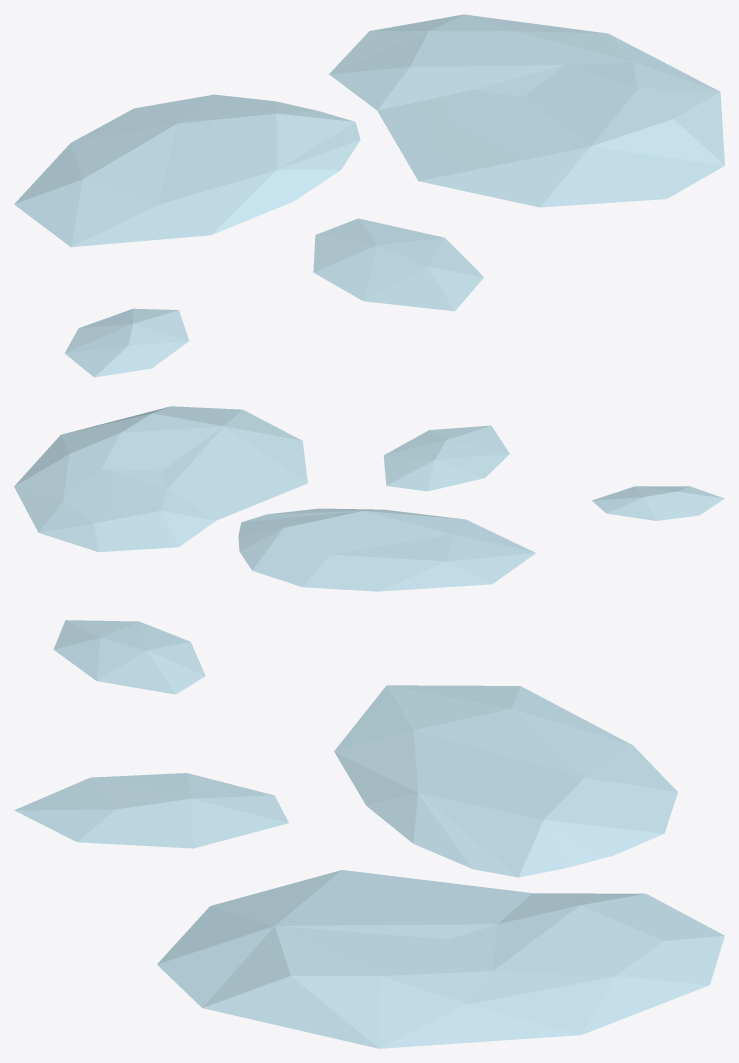
Rendered from worlds_SM_Env_Snow_Pile_03.gltf.
3 renders of one model, top to bottom at view 1: azimuth 30°, elevation 25°; view 2: azimuth 150°, elevation 25°; view 3: azimuth 270°, elevation 25°, orthographic. The views are drawn at different scales.
Visible parts, largest first — view 1: SM_Env_Snow_Pile_03; view 2: SM_Env_Snow_Pile_03; view 3: SM_Env_Snow_Pile_03.
Part boxes in pixels (bbox=[...]): SM_Env_Snow_Pile_03: bbox=[14, 14, 724, 377]; SM_Env_Snow_Pile_03: bbox=[14, 406, 724, 591]; SM_Env_Snow_Pile_03: bbox=[14, 620, 724, 1048].
Size of the model in its own units: 4.17 by 0.1625 by 2.92.
1 material, 1 textured.
